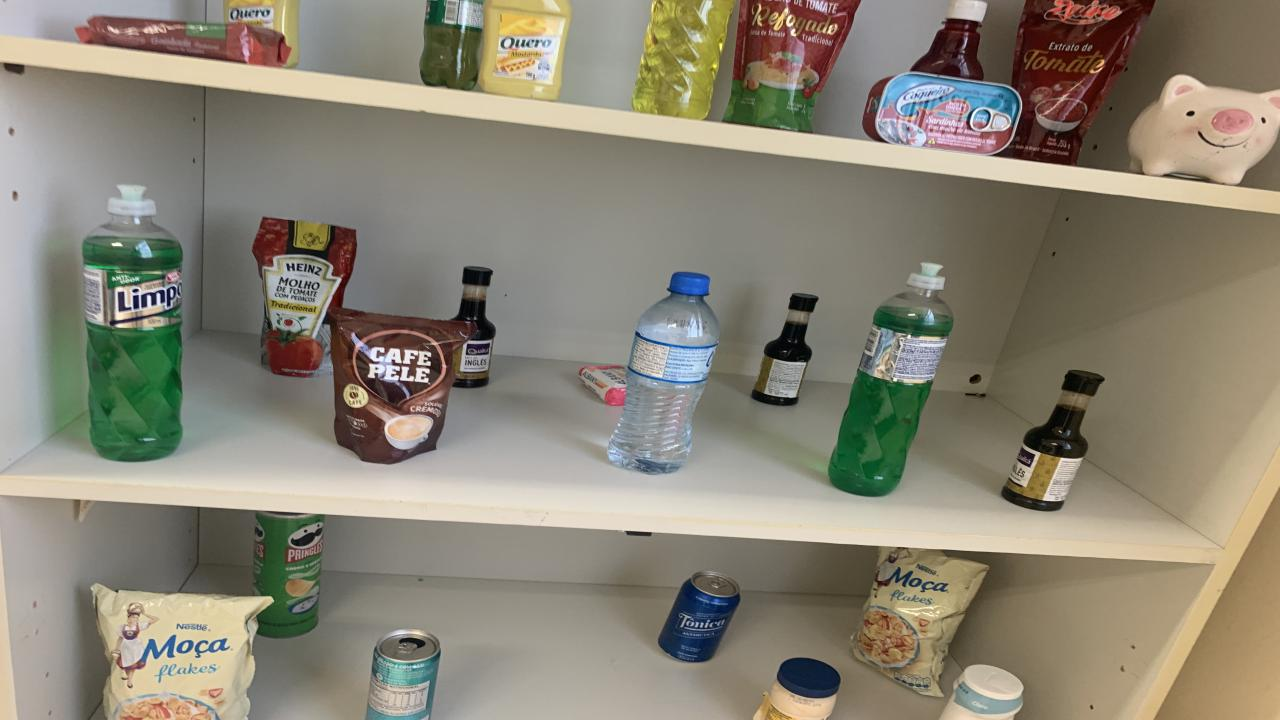Cleaner-Cleanup_Items: (940, 666, 1022, 720)
Coffee-Pantry_Items: (330, 308, 475, 463)
Detergent-Cleanup_Items: (828, 262, 952, 497), (82, 186, 182, 461), (632, 0, 735, 120)
English_Sauce-Pantry_Items: (1002, 369, 1102, 512), (752, 292, 818, 405), (452, 266, 495, 388)
Flakes-Snacks: (92, 585, 272, 720), (850, 548, 988, 698)
Guarana-Drinks: (420, 0, 482, 90)
Guava-Snacks: (78, 15, 292, 68)
Ketchup-Pantry_Items: (910, 0, 988, 81)
Mayonnaise-Pantry_Items: (755, 658, 840, 720)
Mustard-Pantry_Items: (478, 0, 572, 101), (222, 0, 300, 68)
Pig_Safe-Miscellaneous: (1128, 75, 1280, 184)
Pringles-Snacks: (252, 512, 325, 638)
Soap-Cleanup_Items: (580, 366, 628, 407)
Tea-Drinks: (365, 630, 440, 720)
Tomato_Sauce-Pantry_Items: (1010, 0, 1155, 165), (722, 0, 860, 131), (252, 218, 358, 377)
Tonic-Drinks: (658, 572, 740, 662)
Tuna_Can-Pantry_Items: (862, 71, 1020, 156)
Water_Bottle-Drinks: (608, 272, 720, 474)
